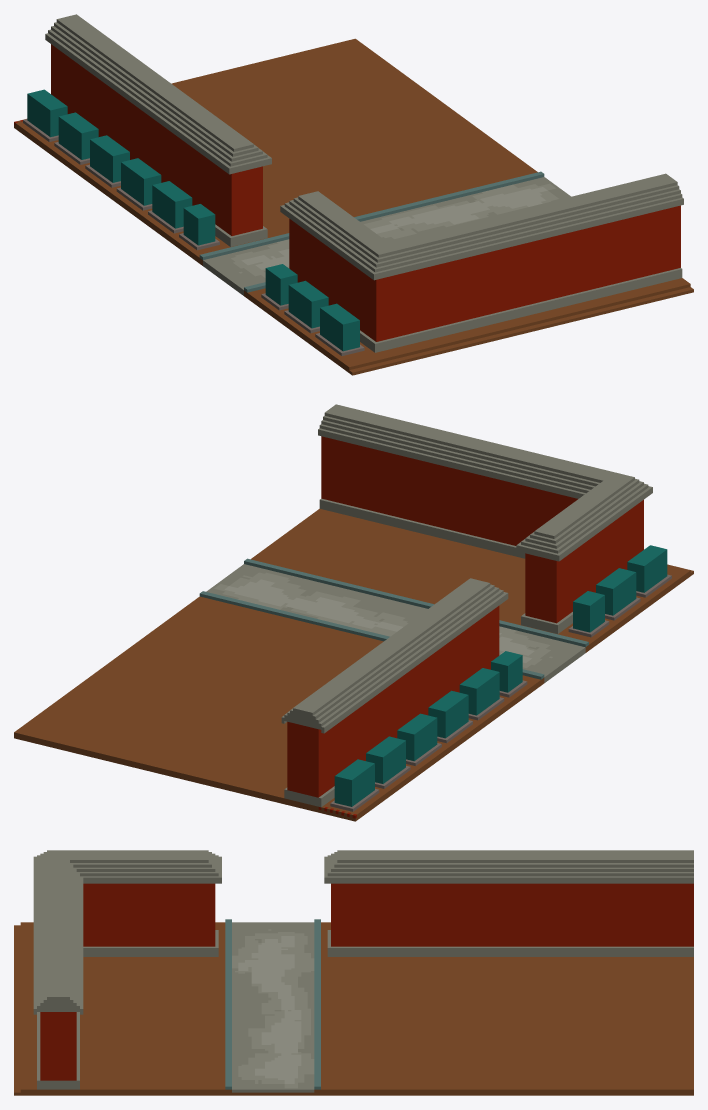
The model's file is Map-15.obj.
3 renders of one model, top to bottom at view 1: azimuth 30°, elevation 25°; view 2: azimuth 150°, elevation 25°; view 3: azimuth 270°, elevation 25°, orthographic.
Size of the model in its own units: 12 by 3.3 by 20.6.
Materials: 1 (1 with a texture image).
